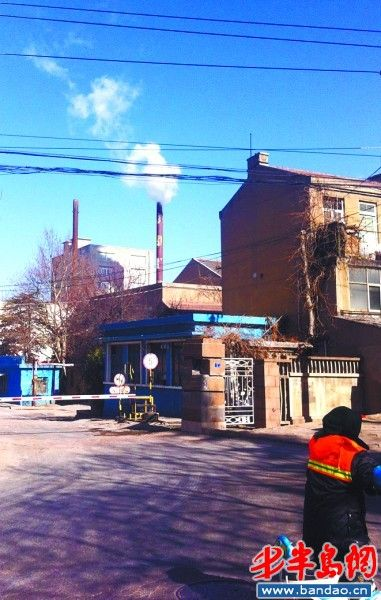dust: (112, 144, 188, 206)
